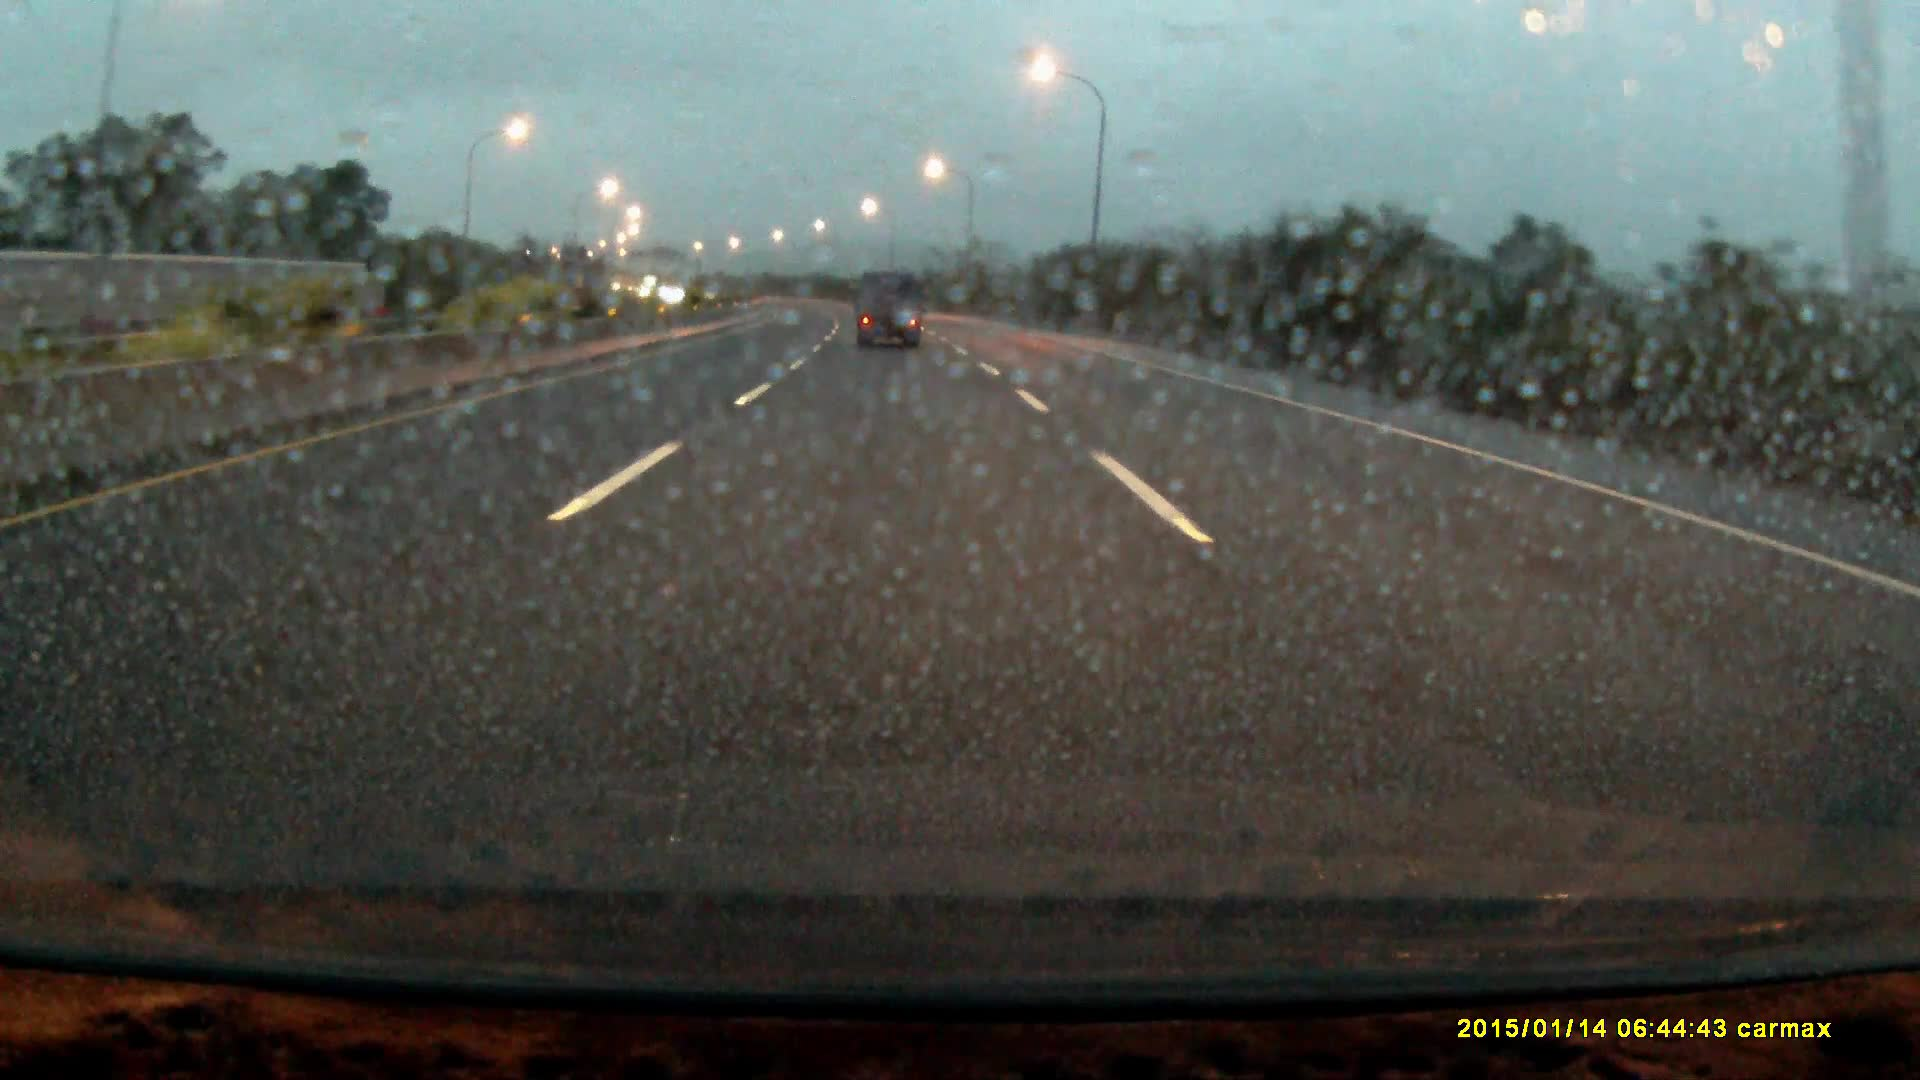vehicle: (853, 272, 923, 353)
